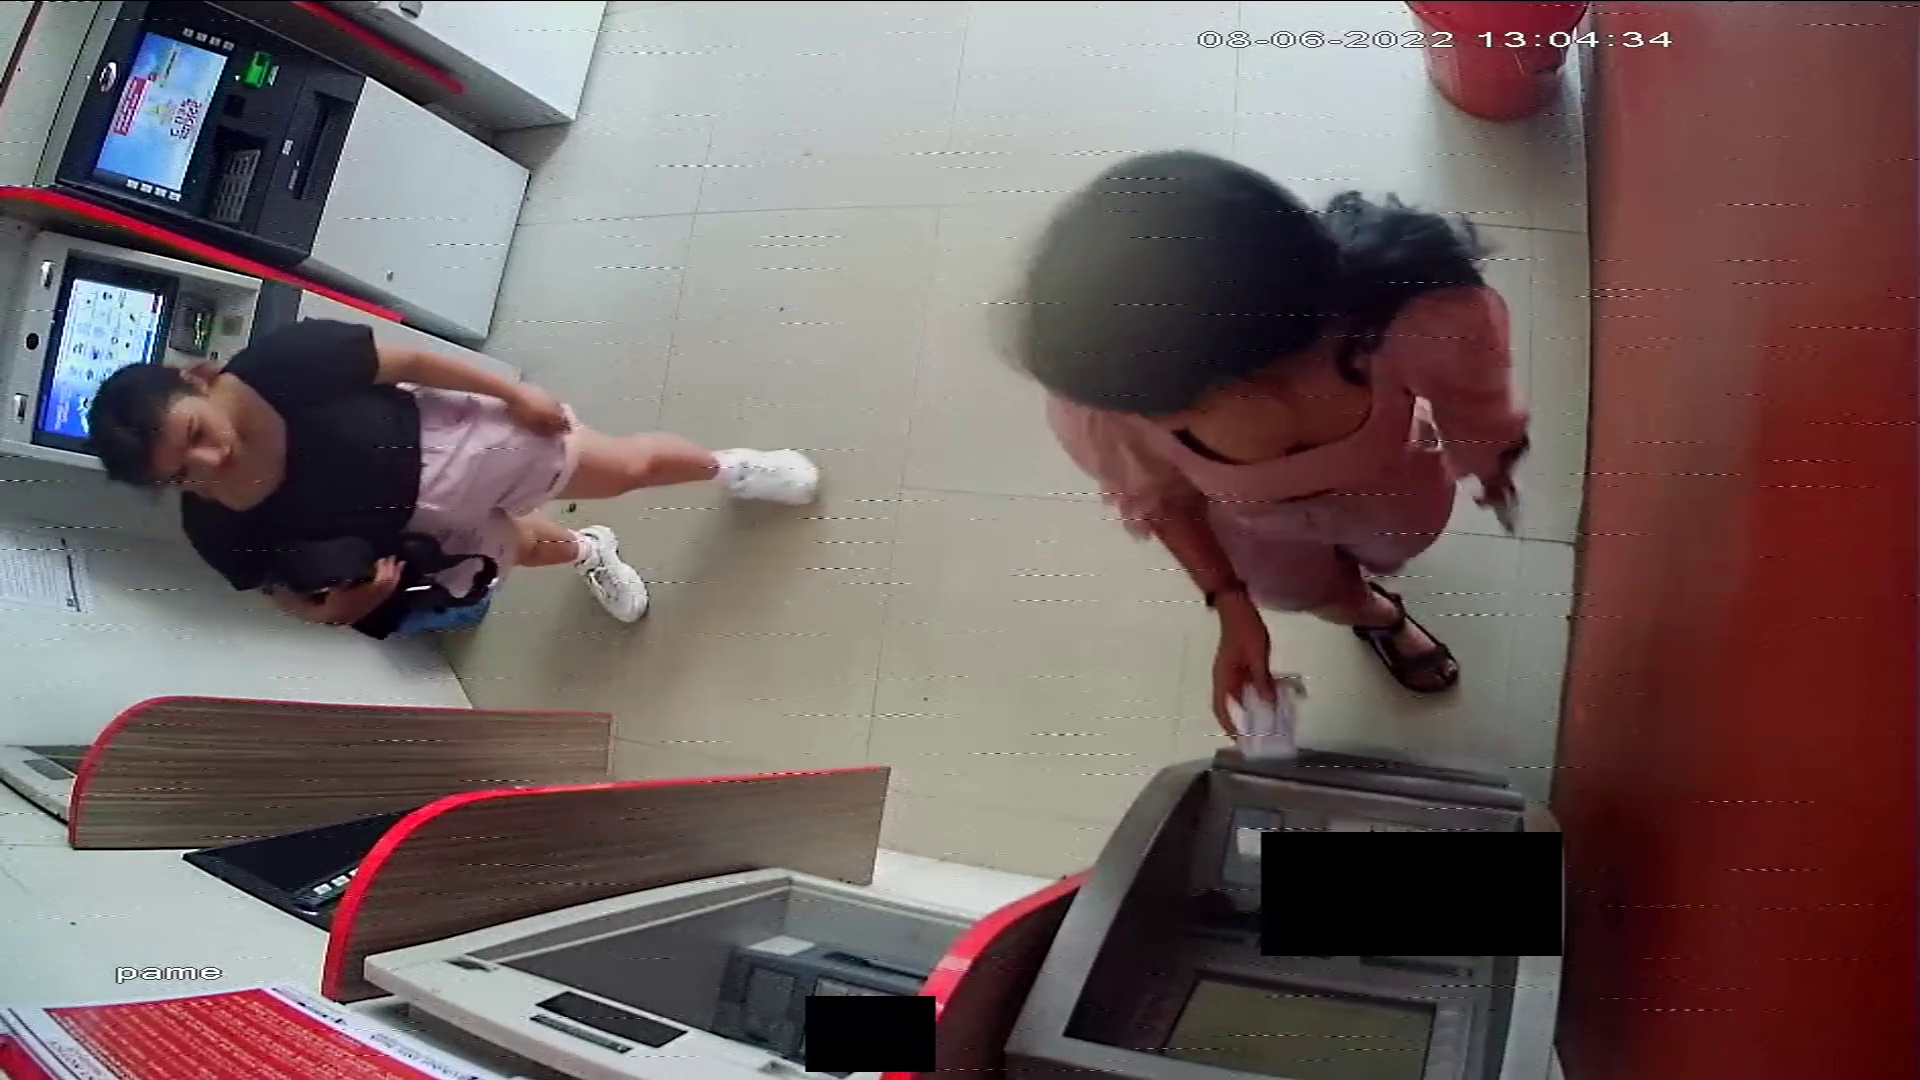person: (1001, 149, 1534, 743), (83, 320, 819, 644)
